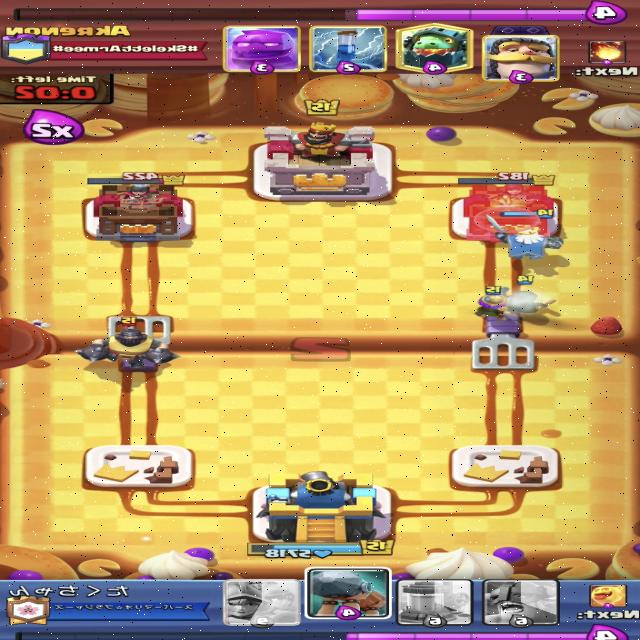Enemy-MegaKnight: (73, 316, 177, 367)
Player-Bandit: (500, 274, 559, 314)
Player-Musketeer: (471, 285, 514, 322)
Player-RoyalGhost: (484, 209, 561, 260)
